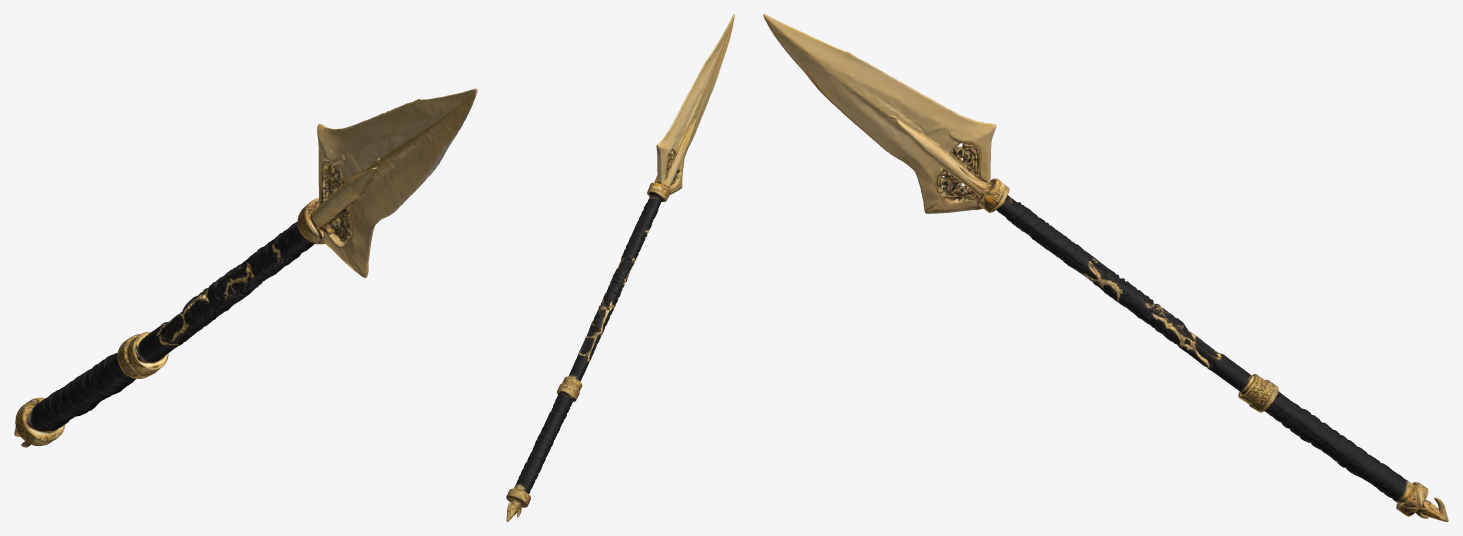
File: Golden_Desert_Spear_1030145034_texture.fbx
3 views of the same model, side by side, from view 1: azimuth 30°, elevation 25°; view 2: azimuth 150°, elevation 25°; view 3: azimuth 270°, elevation 25° (orthographic). The views are drawn at different scales.
Parts seen in each view (by area): view 1: input; view 2: input; view 3: input.
Boxes of the visible parts, x1=… form: input: x1=14, y1=88, x2=477, y2=447; input: x1=506, y1=14, x2=734, y2=521; input: x1=763, y1=14, x2=1448, y2=521.
Size of the model in its own units: 9.69 by 154 by 188.
Materials: 1 (1 with a texture image).
